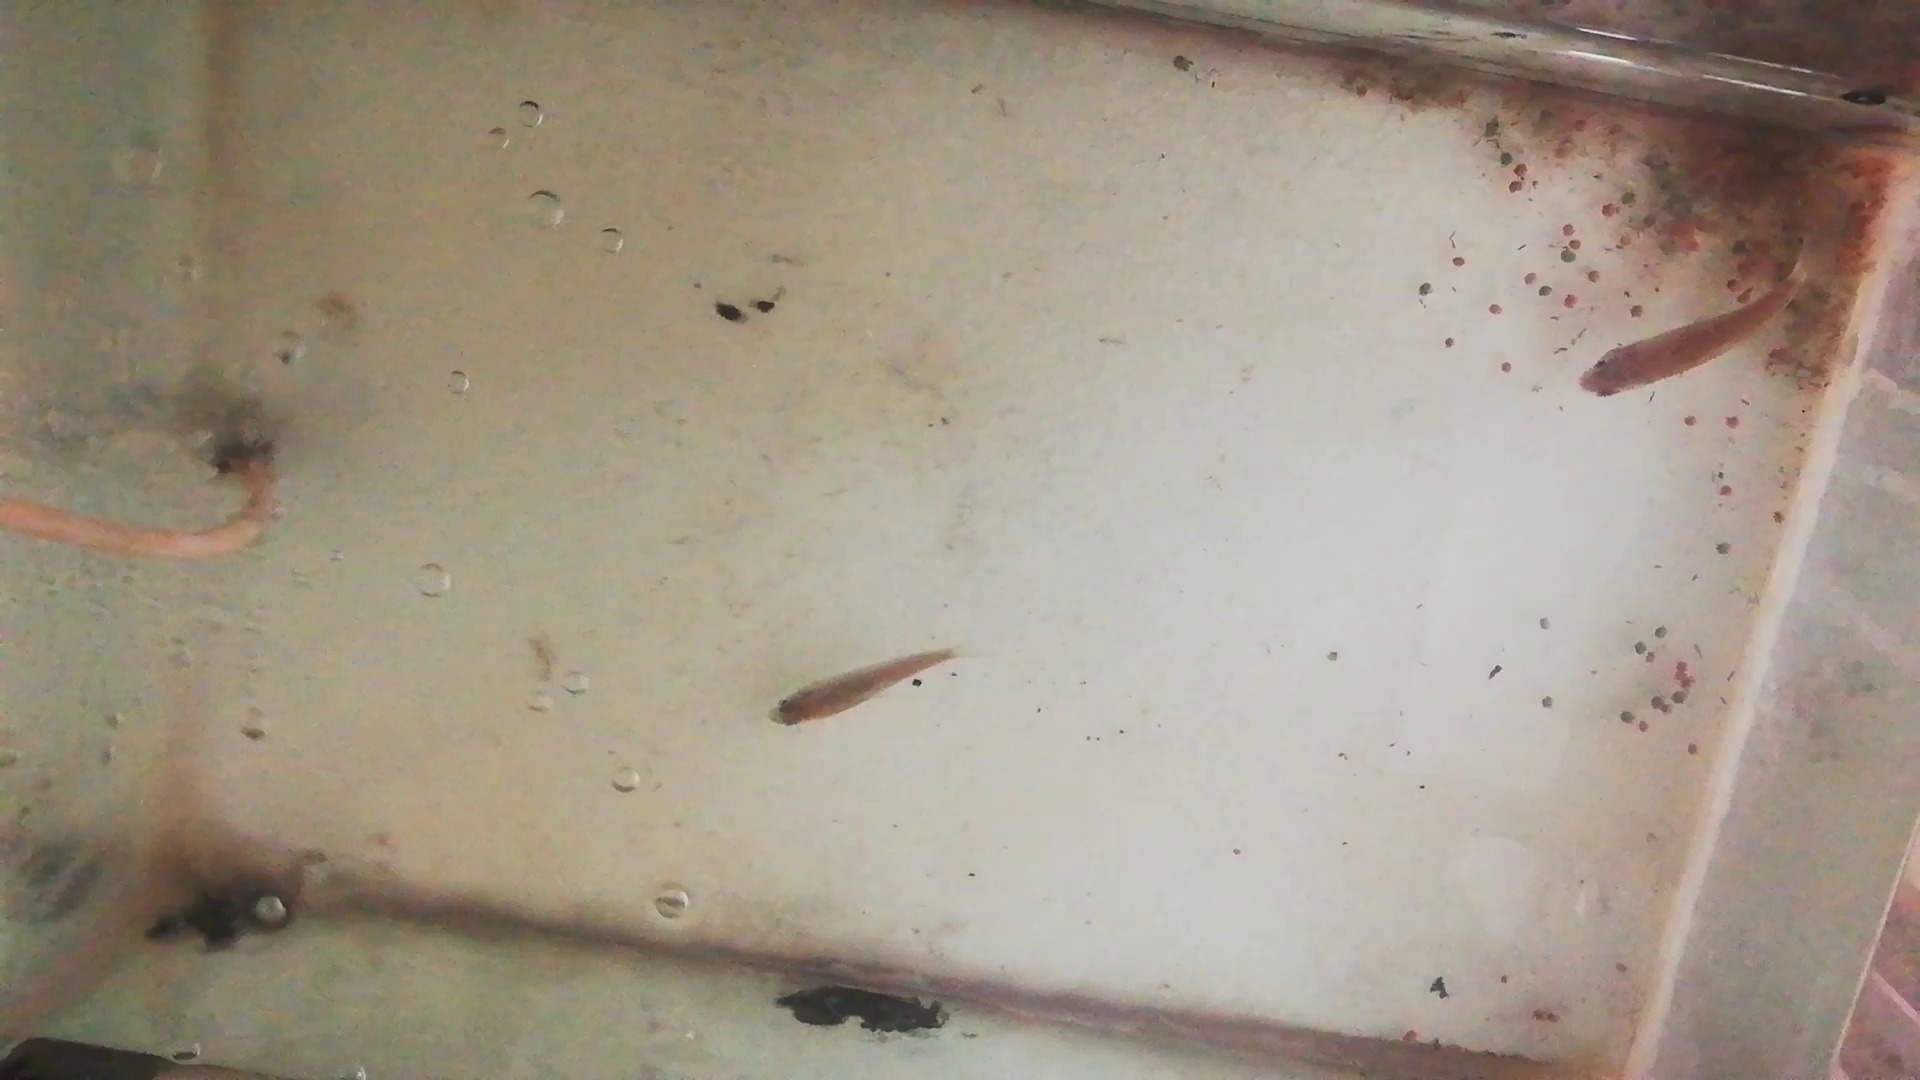fish: (1584, 270, 1795, 404), (771, 650, 951, 729)
